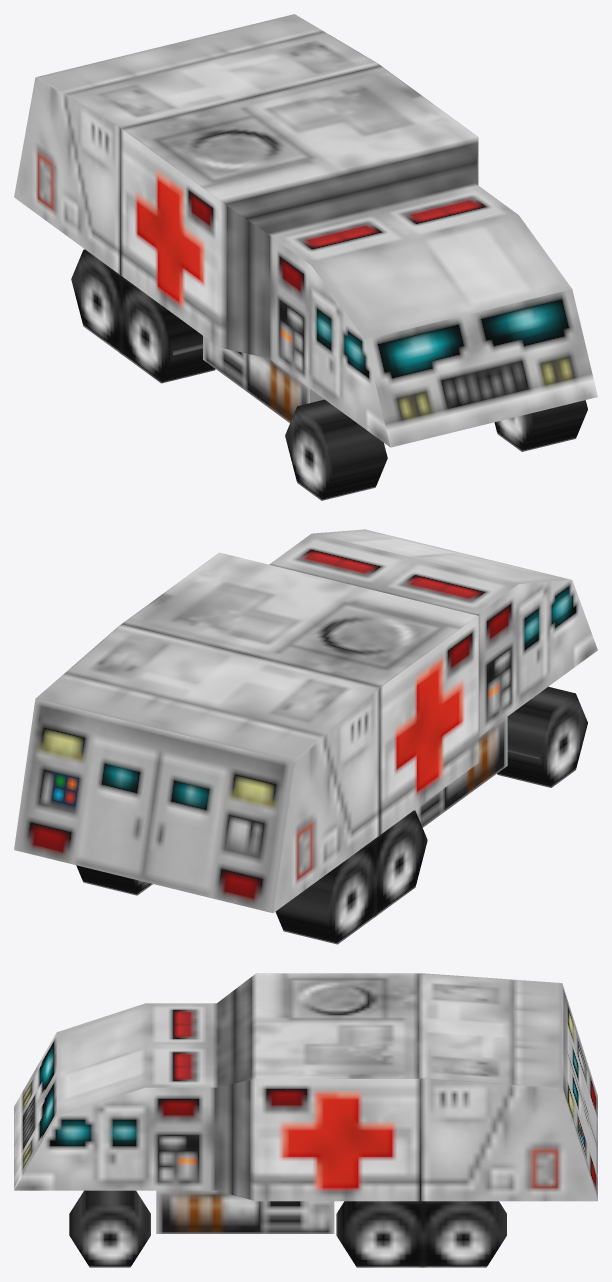
File: ambulance.glb
The picture shows the model from 3 angles, top to bottom: view 1: azimuth 30°, elevation 25°; view 2: azimuth 150°, elevation 25°; view 3: azimuth 270°, elevation 25°; orthographic projection. The views are drawn at different scales.
Parts seen in each view (by area): view 1: Ambulance; view 2: Ambulance; view 3: Ambulance.
Boxes of the visible parts, x1,y1,x2,y2 form: Ambulance: (14, 14, 597, 500); Ambulance: (14, 529, 597, 944); Ambulance: (14, 973, 597, 1267).
Bounding box in the file's own units: 3.19 × 2.68 × 7.47.
1 material, 1 textured.
